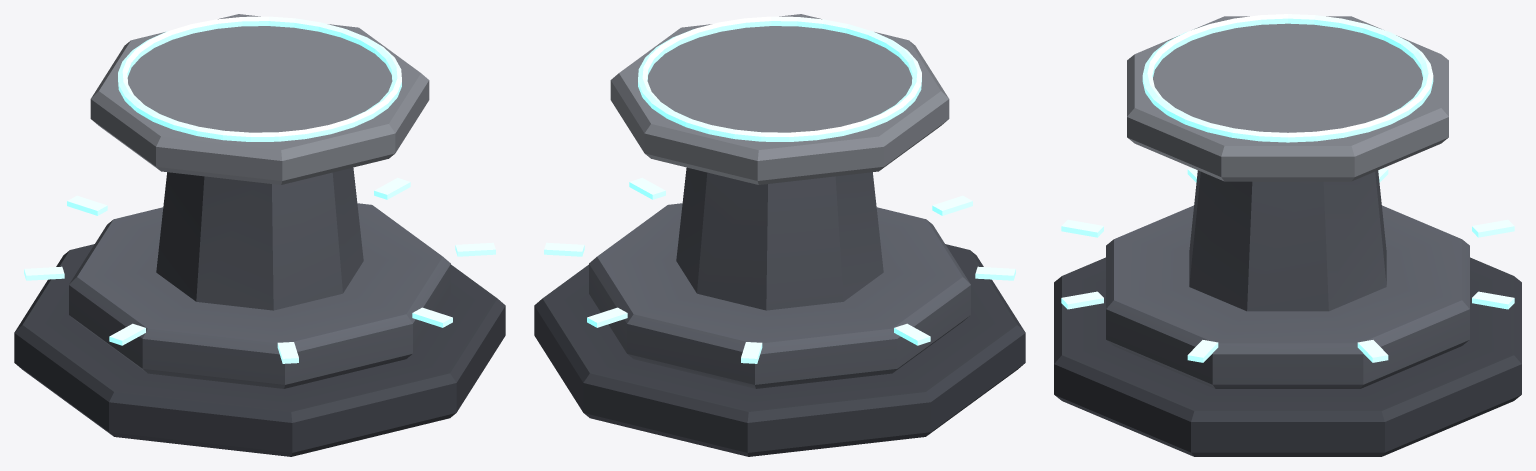
Rendered from pedestal.glb.
The picture shows the model from 3 angles, left to right: view 1: azimuth 30°, elevation 25°; view 2: azimuth 150°, elevation 25°; view 3: azimuth 270°, elevation 25°; orthographic projection. The views are drawn at different scales.
Visible parts, largest first — view 1: pedestal; view 2: pedestal; view 3: pedestal.
Part boxes in pixels (x1=…): pedestal: x1=14, y1=14, x2=505, y2=456; pedestal: x1=534, y1=14, x2=1025, y2=456; pedestal: x1=1054, y1=14, x2=1521, y2=456.
Bounding box in the file's own units: 1.66 × 1.13 × 1.66.
